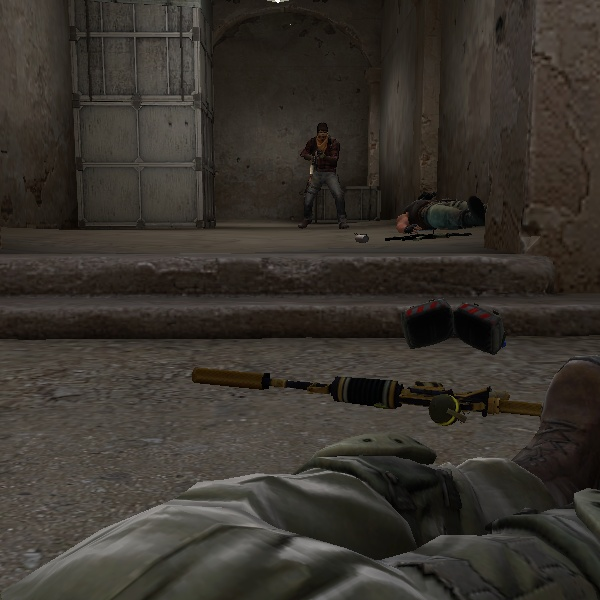t_body: (293, 119, 352, 228)
